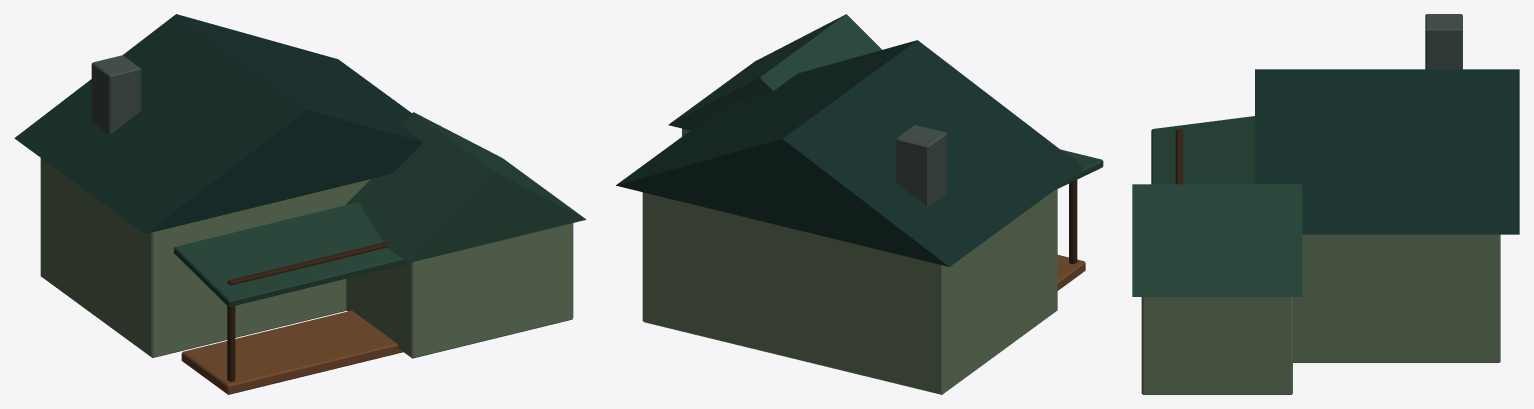
File: LumenRoadWayhouseV2.glb
The picture shows the model from 3 angles, left to right: view 1: azimuth 30°, elevation 25°; view 2: azimuth 150°, elevation 25°; view 3: azimuth 270°, elevation 25°; orthographic projection. The views are drawn at different scales.
Visible parts, largest first — view 1: LumenRoadWayhouseV2; view 2: LumenRoadWayhouseV2; view 3: LumenRoadWayhouseV2.
Boxes of the visible parts, x1=… form: LumenRoadWayhouseV2: x1=14, y1=14, x2=586, y2=394; LumenRoadWayhouseV2: x1=616, y1=14, x2=1103, y2=394; LumenRoadWayhouseV2: x1=1132, y1=14, x2=1519, y2=394.
Size of the model in its own units: 23.5 by 13.3 by 20.5.
1 material, 1 textured.
